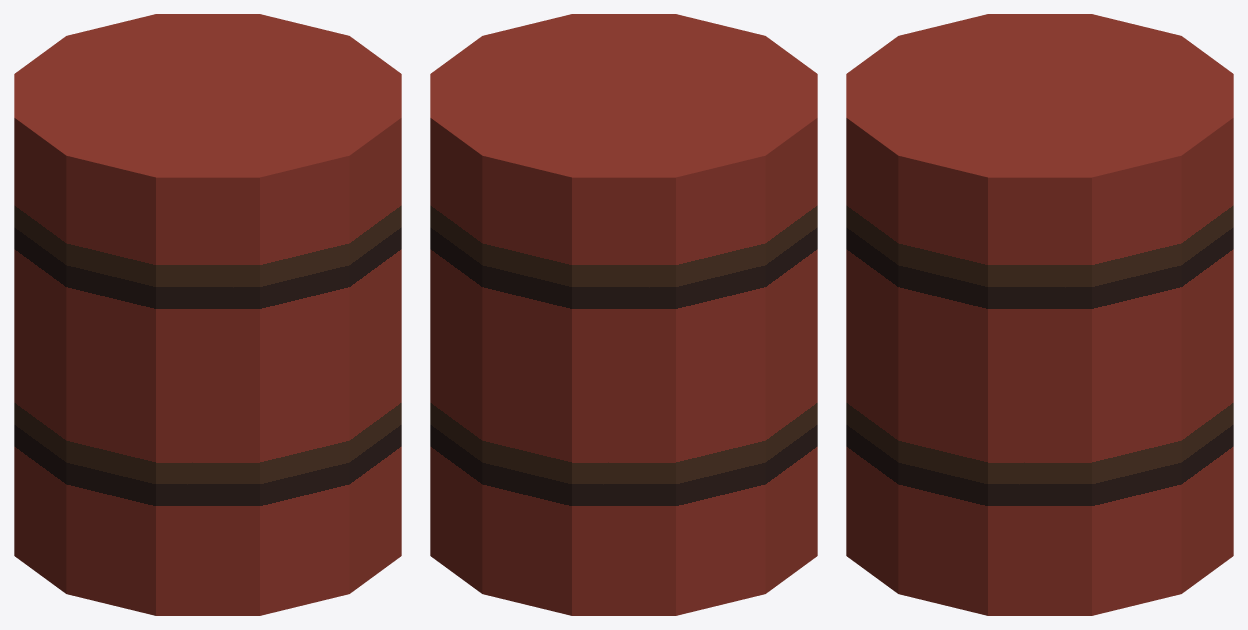
File: Metalfass.fbx
The picture shows the model from 3 angles, left to right: view 1: azimuth 30°, elevation 25°; view 2: azimuth 150°, elevation 25°; view 3: azimuth 270°, elevation 25°; orthographic projection.
Visible parts, largest first — view 1: cylinder; view 2: cylinder; view 3: cylinder.
Part boxes in pixels (box(x1,y1,x2,y2)): cylinder: box(14, 14, 401, 615); cylinder: box(430, 14, 817, 615); cylinder: box(846, 14, 1233, 615).
Bounding box in the file's own units: 100 × 125 × 100.
Materials: 1 (1 with a texture image).
